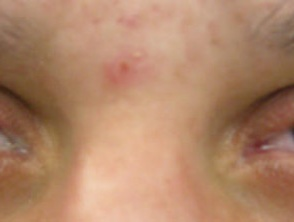SJS-TEN: (95, 39, 162, 96)
